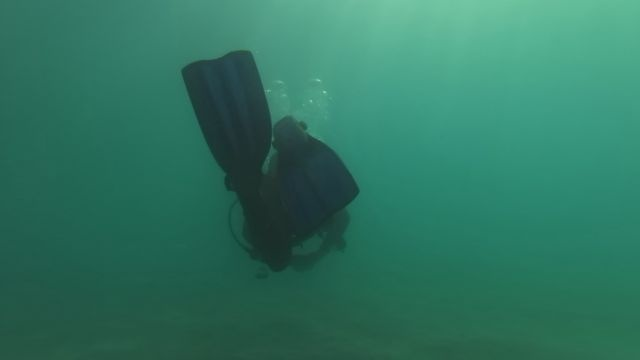Diver: (175, 48, 372, 286)
